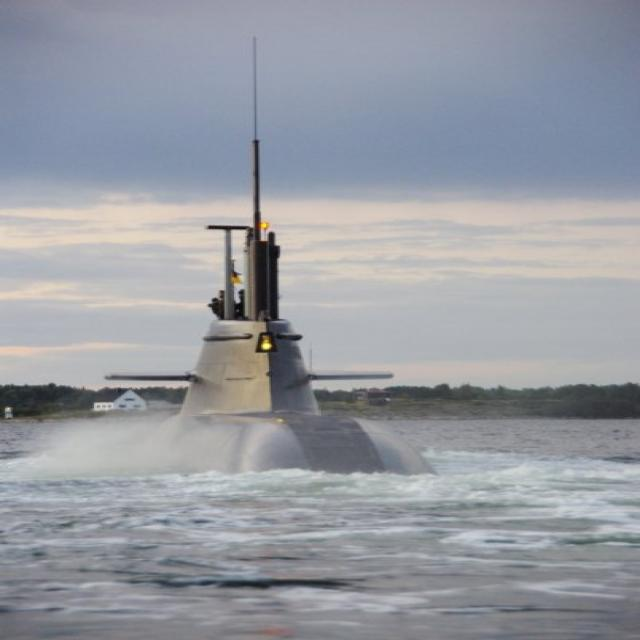submarine: (38, 20, 455, 484)
